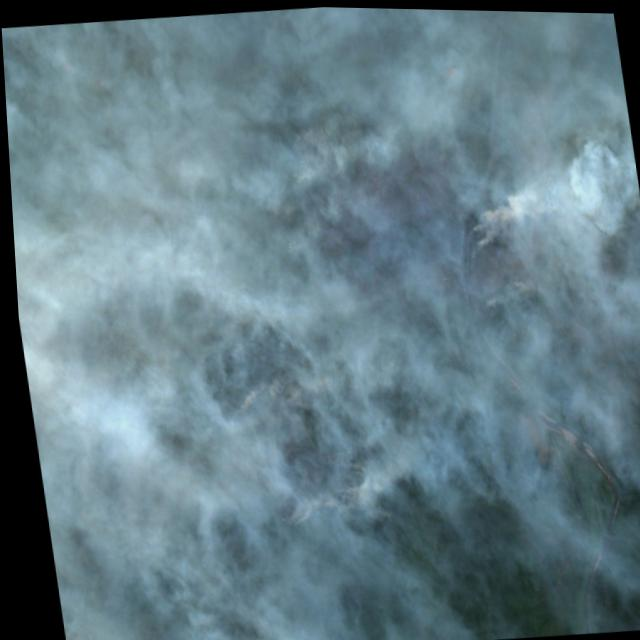fire: (446, 179, 522, 304)
